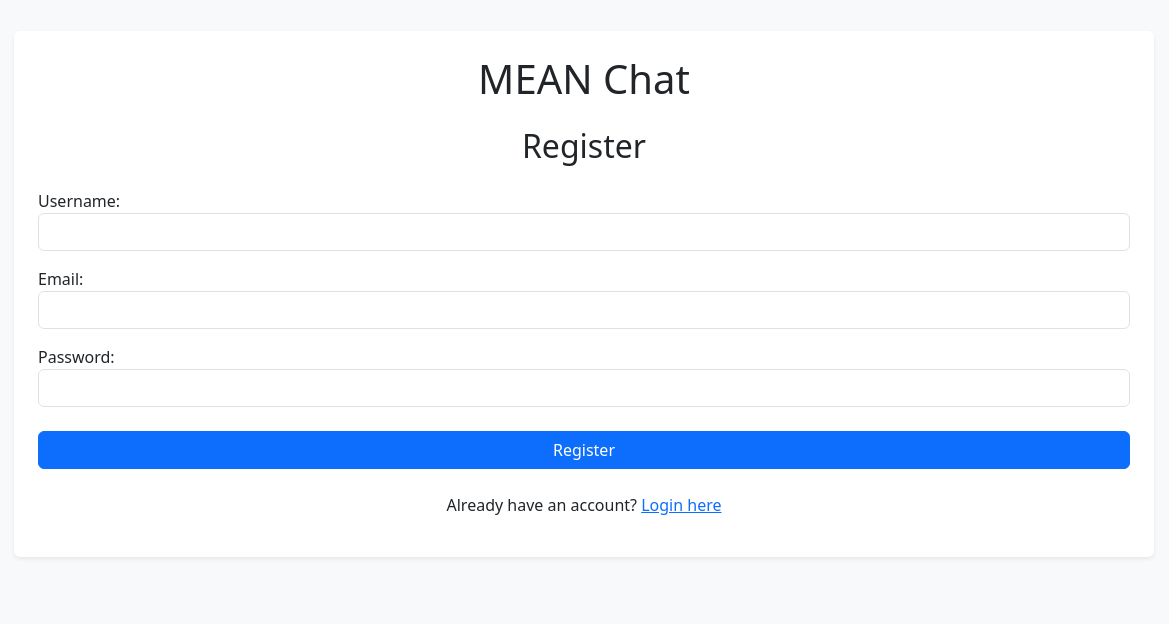
Test: Register Page E2E Tests › should show required field errors
The width and height of the screenshot is (1169, 624).
Step 1. Click the submit button → (584, 450), box [38,431,1130,469]
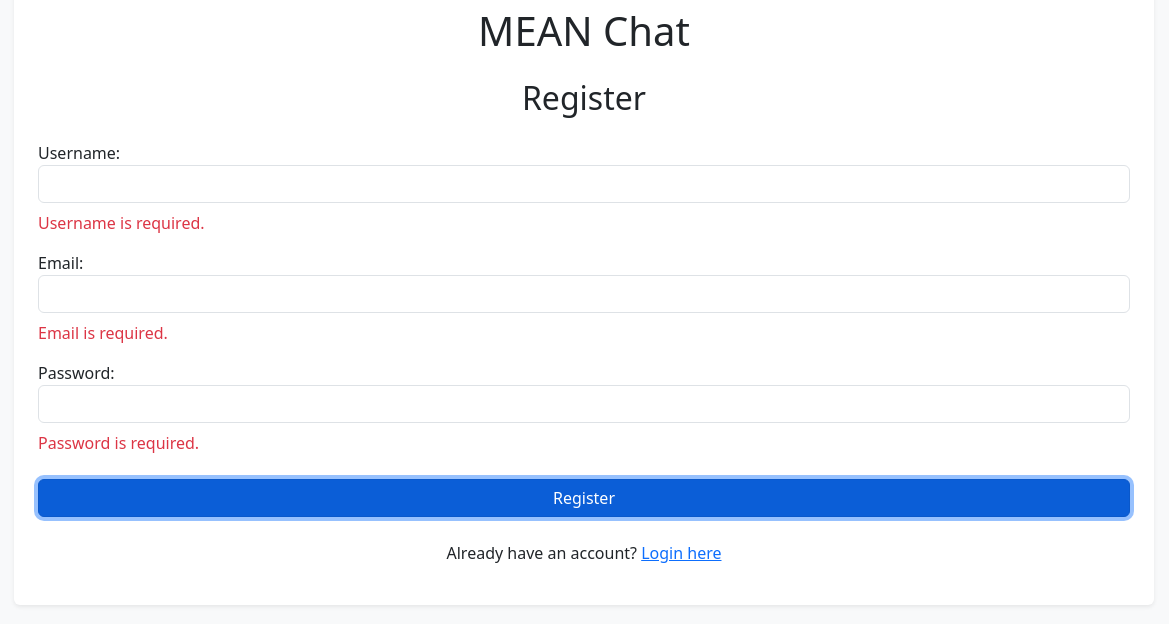
expect the text "Username is required" is shown: met, box [38,212,205,234]
expect the text "Email is required" is shown: met, box [38,322,168,344]
expect the text "Password is required" is shown: met, box [38,432,199,454]
